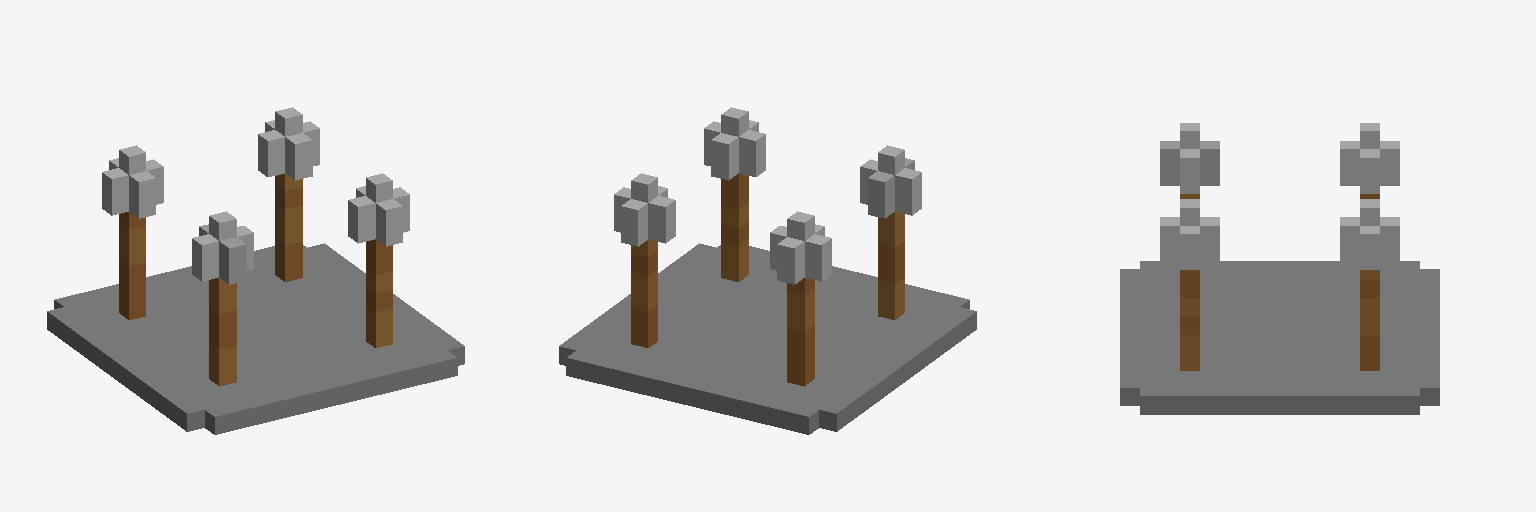
The picture shows the model from 3 angles: view 1: azimuth 30°, elevation 25°; view 2: azimuth 150°, elevation 25°; view 3: azimuth 270°, elevation 25°; orthographic projection.
Visible parts, largest first — view 1: object 1; view 2: object 1; view 3: object 1.
Boxes of the visible parts, <box> form: object 1: <box>47,107,464,434</box>; object 1: <box>559,107,976,434</box>; object 1: <box>1120,123,1439,414</box>.
Bounding box in the file's own units: 1.6 × 1 × 1.6.
1 materials, 1 textured.